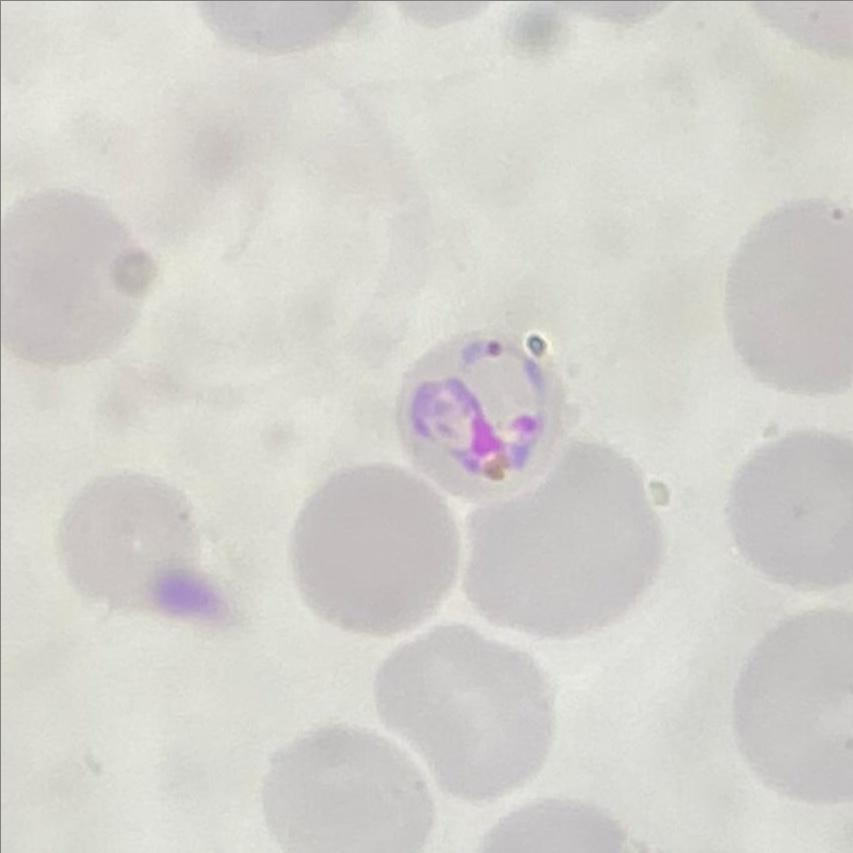Infected: (392, 331, 571, 497)
Uninfected: (462, 435, 669, 644), (372, 623, 555, 801), (290, 461, 459, 633), (726, 191, 853, 393), (0, 197, 145, 370), (262, 719, 435, 853), (736, 613, 853, 804), (58, 473, 206, 620), (726, 425, 853, 592)
